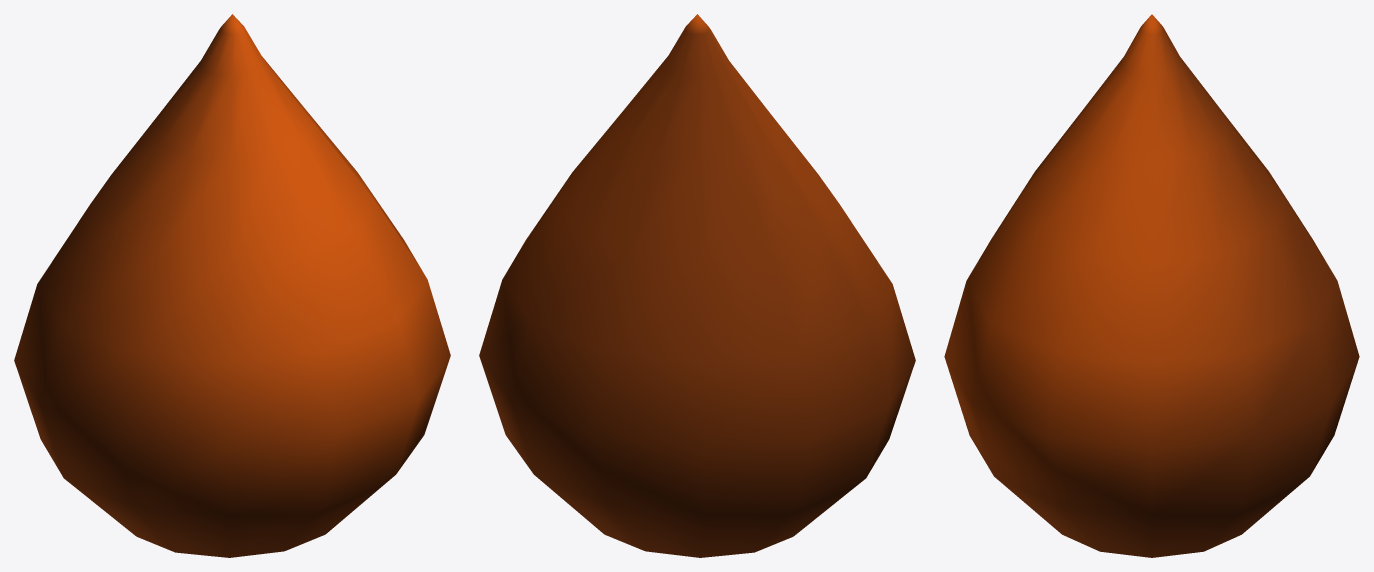
File: nectar_droplet.fbx
3 views of the same model, side by side, from view 1: azimuth 30°, elevation 25°; view 2: azimuth 150°, elevation 25°; view 3: azimuth 270°, elevation 25° (orthographic).
Visible parts, largest first — view 1: Nectar Droplet; view 2: Nectar Droplet; view 3: Nectar Droplet.
Part boxes in pixels (x1,y1,x2,y2): Nectar Droplet: [14, 14, 450, 557]; Nectar Droplet: [479, 14, 915, 557]; Nectar Droplet: [944, 14, 1359, 557].
Size of the model in its own units: 0.0132 by 0.0178 by 0.0124.
